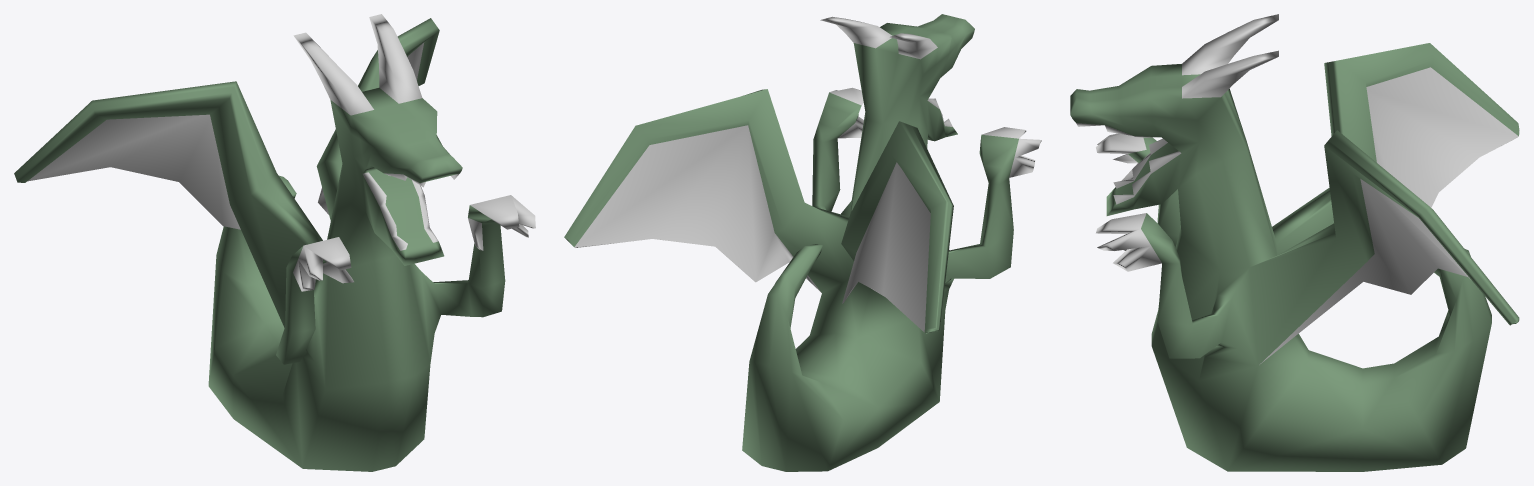
File: dragon.fbx
The picture shows the model from 3 angles, left to right: view 1: azimuth 30°, elevation 25°; view 2: azimuth 150°, elevation 25°; view 3: azimuth 270°, elevation 25°; orthographic projection. The views are drawn at different scales.
Visible parts, largest first — view 1: polySurface2; view 2: polySurface2; view 3: polySurface2.
Part boxes in pixels (x1,y1,x2,y2): polySurface2: [14, 14, 535, 471]; polySurface2: [564, 14, 1041, 471]; polySurface2: [1070, 14, 1519, 471].
Size of the model in its own units: 2.66 by 2.56 by 2.56.
